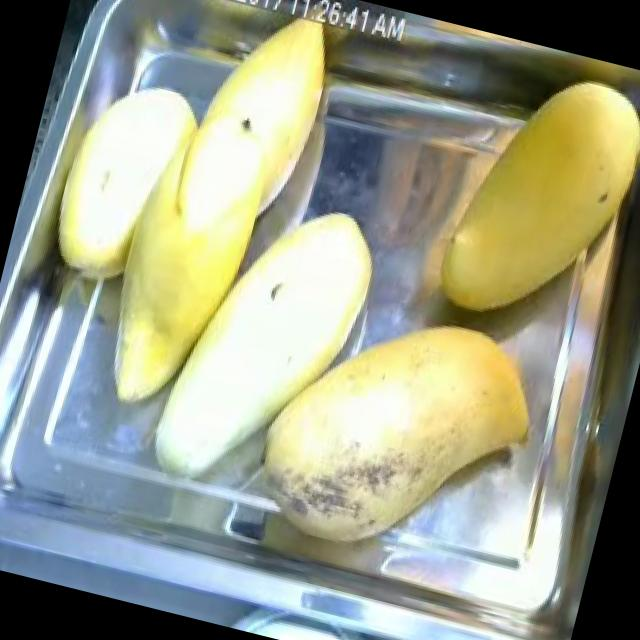fruit: (222, 266, 562, 594), (59, 88, 304, 447), (409, 41, 640, 357)
